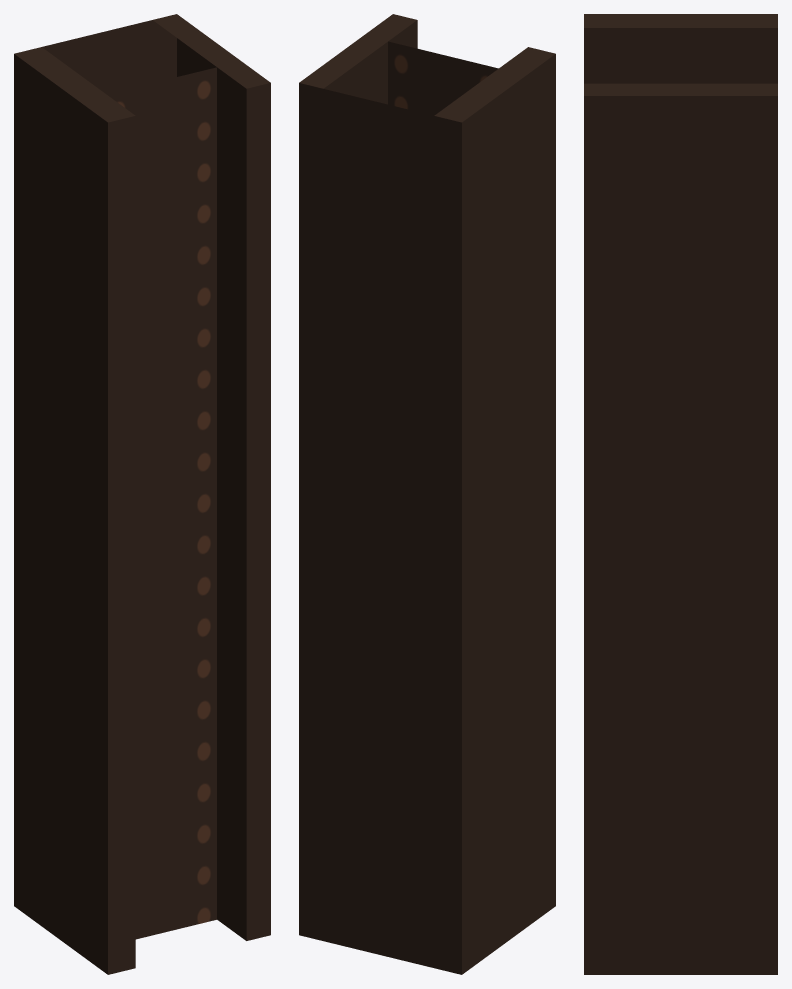
The model's file is Column.fbx.
The picture shows the model from 3 angles, left to right: view 1: azimuth 30°, elevation 25°; view 2: azimuth 150°, elevation 25°; view 3: azimuth 270°, elevation 25°; orthographic projection. The views are drawn at different scales.
Visible parts, largest first — view 1: Cube.001; view 2: Cube.001; view 3: Cube.001.
Boxes of the visible parts, bbox=[...] form: Cube.001: bbox=[14, 14, 270, 974]; Cube.001: bbox=[299, 14, 555, 974]; Cube.001: bbox=[584, 14, 777, 974].
Size of the model in its own units: 200 by 1000 by 200.
